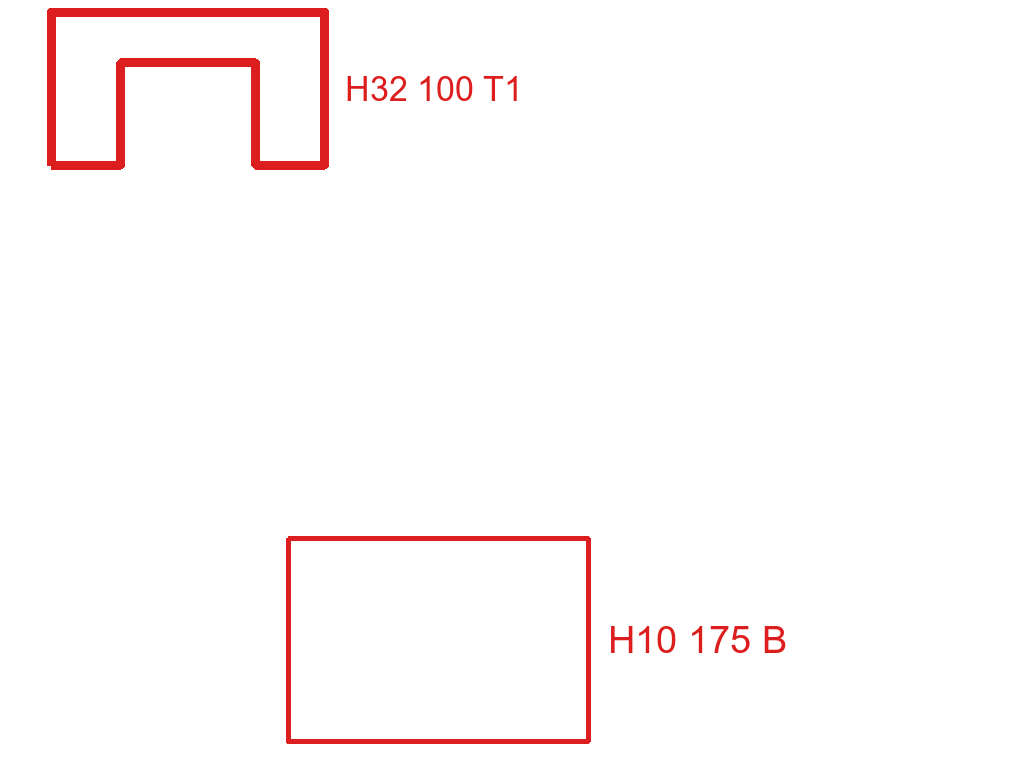shape: (284, 534, 593, 746), (45, 6, 331, 172)
text: (606, 624, 789, 655), (343, 74, 525, 103)
